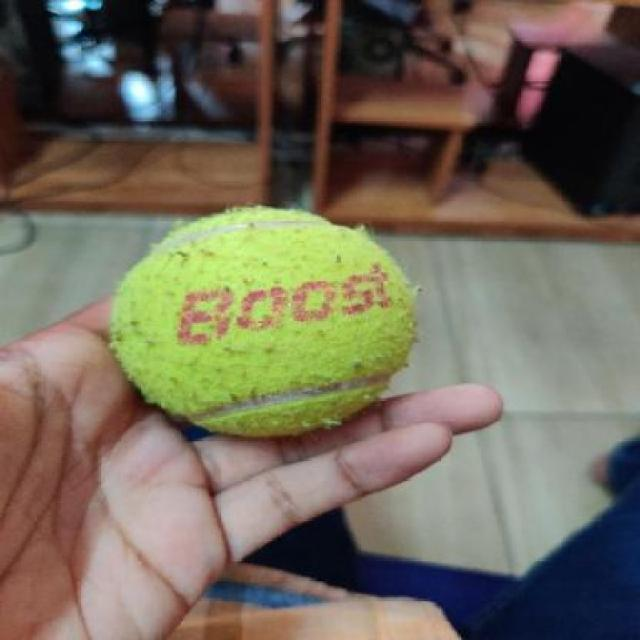-: (92, 202, 429, 429)
